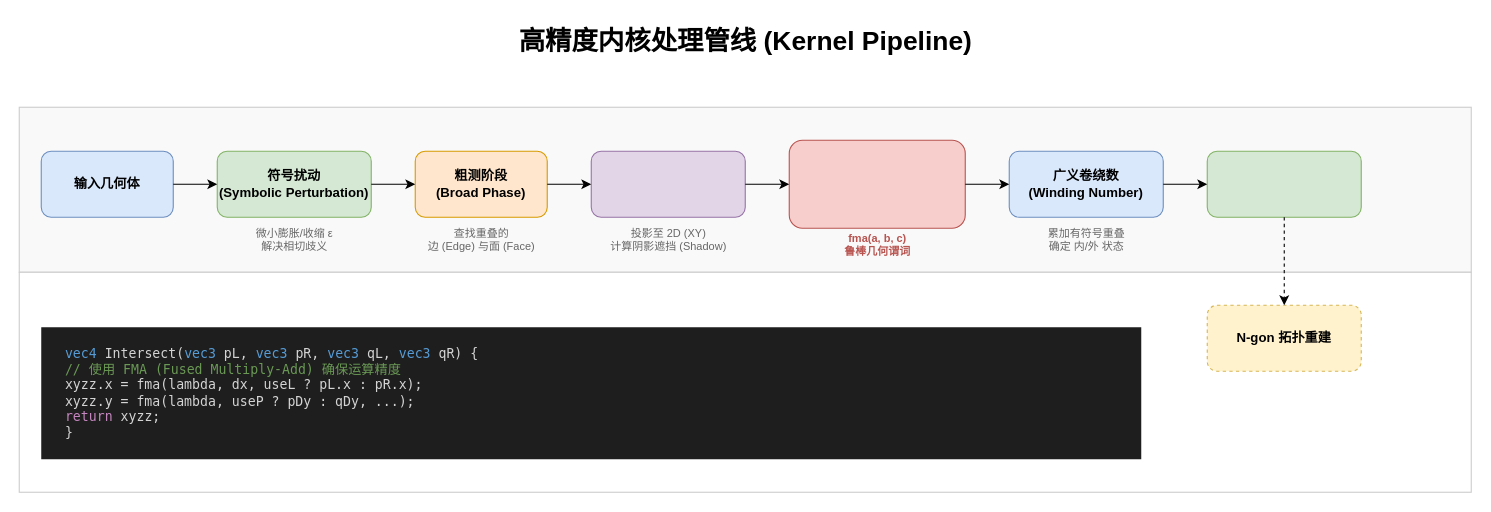
The diagram is 1491 pixels wide and 512 high, and some of its shapes have lost their labels. Here are the shapes that lost their labels. From the top down, the centre of each, then its label:
At [667,183]: "投影计算 (Projection)".
At [876,183]: "精确求交 (Exact Intersection)".
At [1283,183]: "网格组装 (Assembly)".
